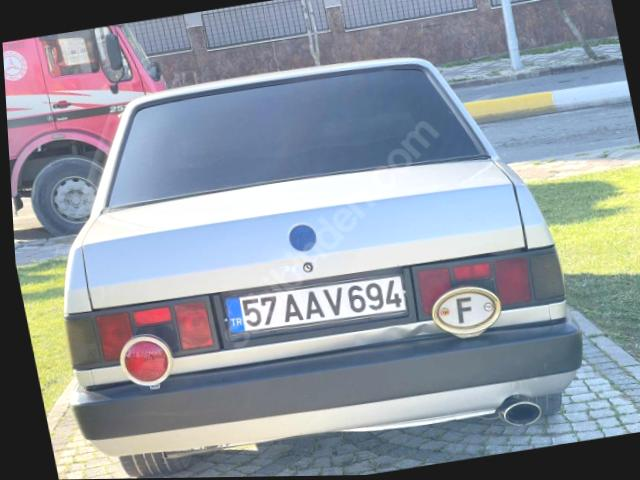plaka: (226, 276, 406, 332)
